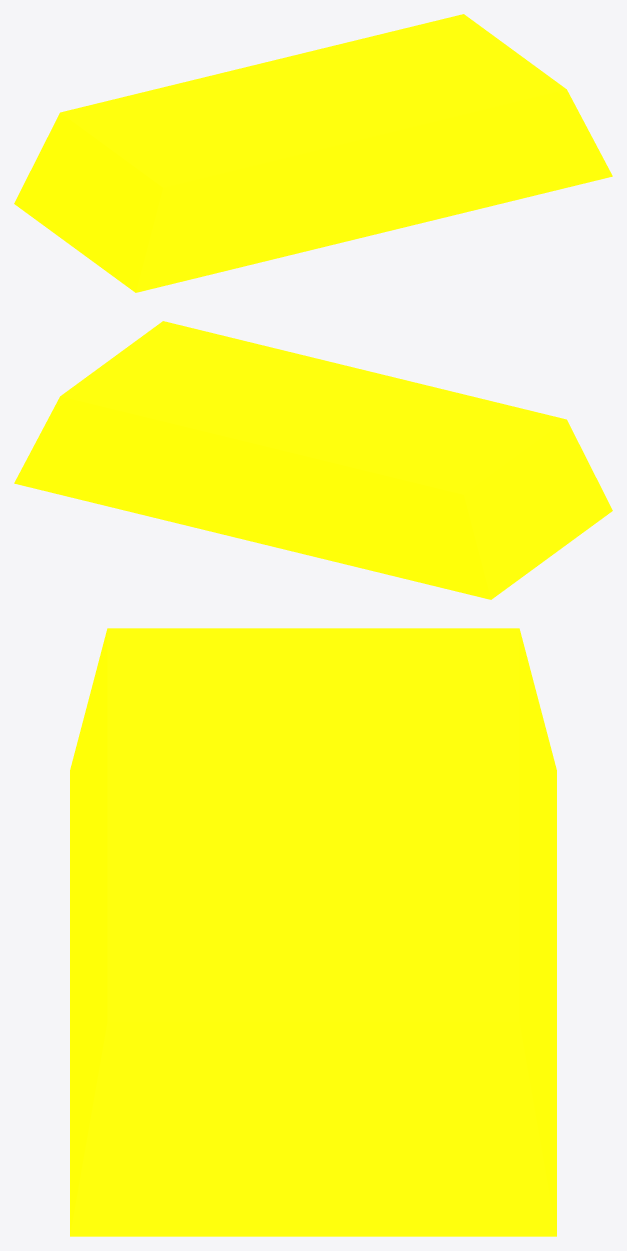
The model's file is GoldIgnot.fbx.
3 renders of one model, top to bottom at view 1: azimuth 30°, elevation 25°; view 2: azimuth 150°, elevation 25°; view 3: azimuth 270°, elevation 25°, orthographic. The views are drawn at different scales.
Parts seen in each view (by area): view 1: Gold_Ingot; view 2: Gold_Ingot; view 3: Gold_Ingot.
Part boxes in pixels (x1,y1,x2,y2): Gold_Ingot: [14, 14, 612, 292]; Gold_Ingot: [14, 321, 612, 599]; Gold_Ingot: [70, 628, 556, 1236].
Size of the model in its own units: 183 by 32.63 by 80.74.
